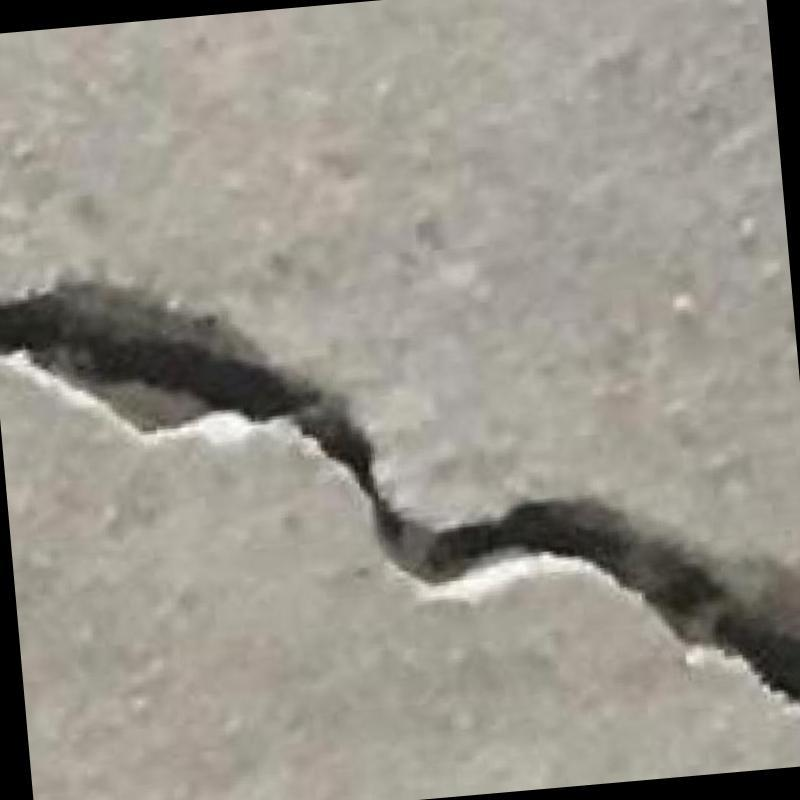pothole: (0, 294, 800, 701)
